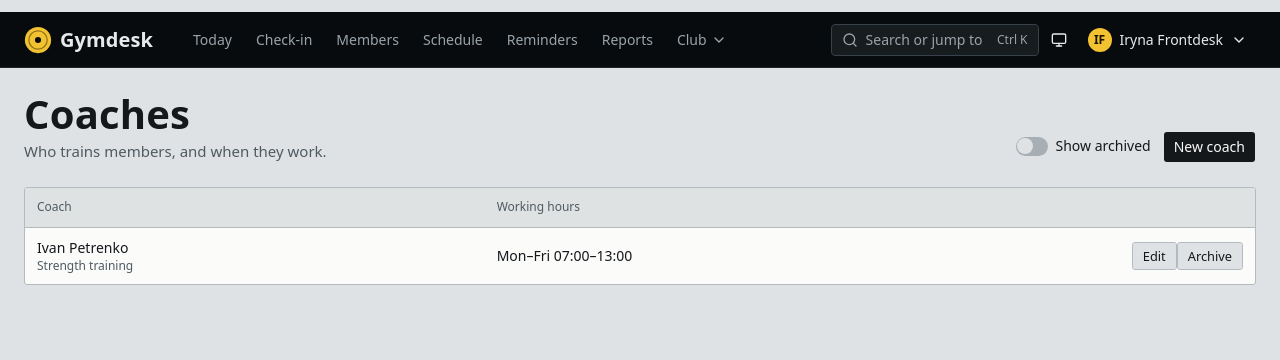
Scenario: coach list › shows archived coaches on request and says when no hours are set
This screenshot has width=1280, height=360.
Expected: the heading "Coaches" is shown, x1=24 y1=86 x2=190 y2=141
Expected: the link "Ivan Petrenko" is shown, x1=37 y1=238 x2=128 y2=257
Click the switch named "Show archived" at (1032, 146), box x1=1016 y1=137 x2=1048 y2=156
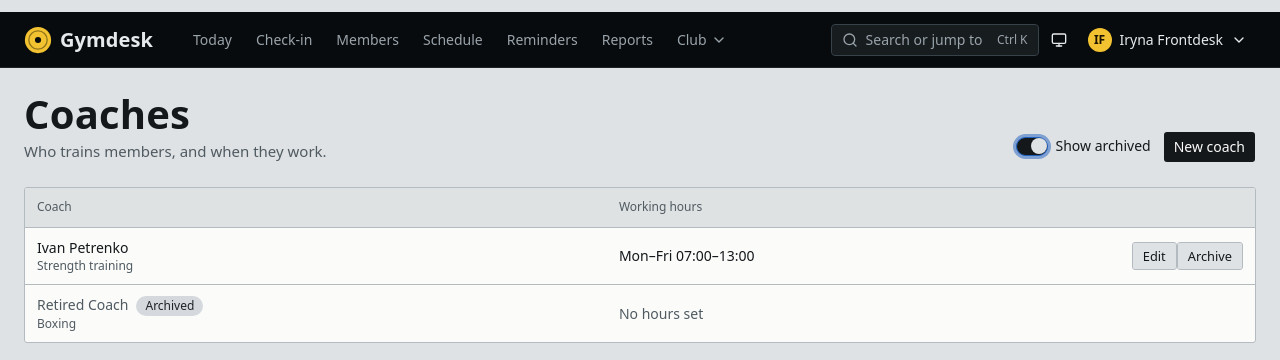
Expected: the text "Archived" is shown, x1=136 y1=296 x2=203 y2=316
